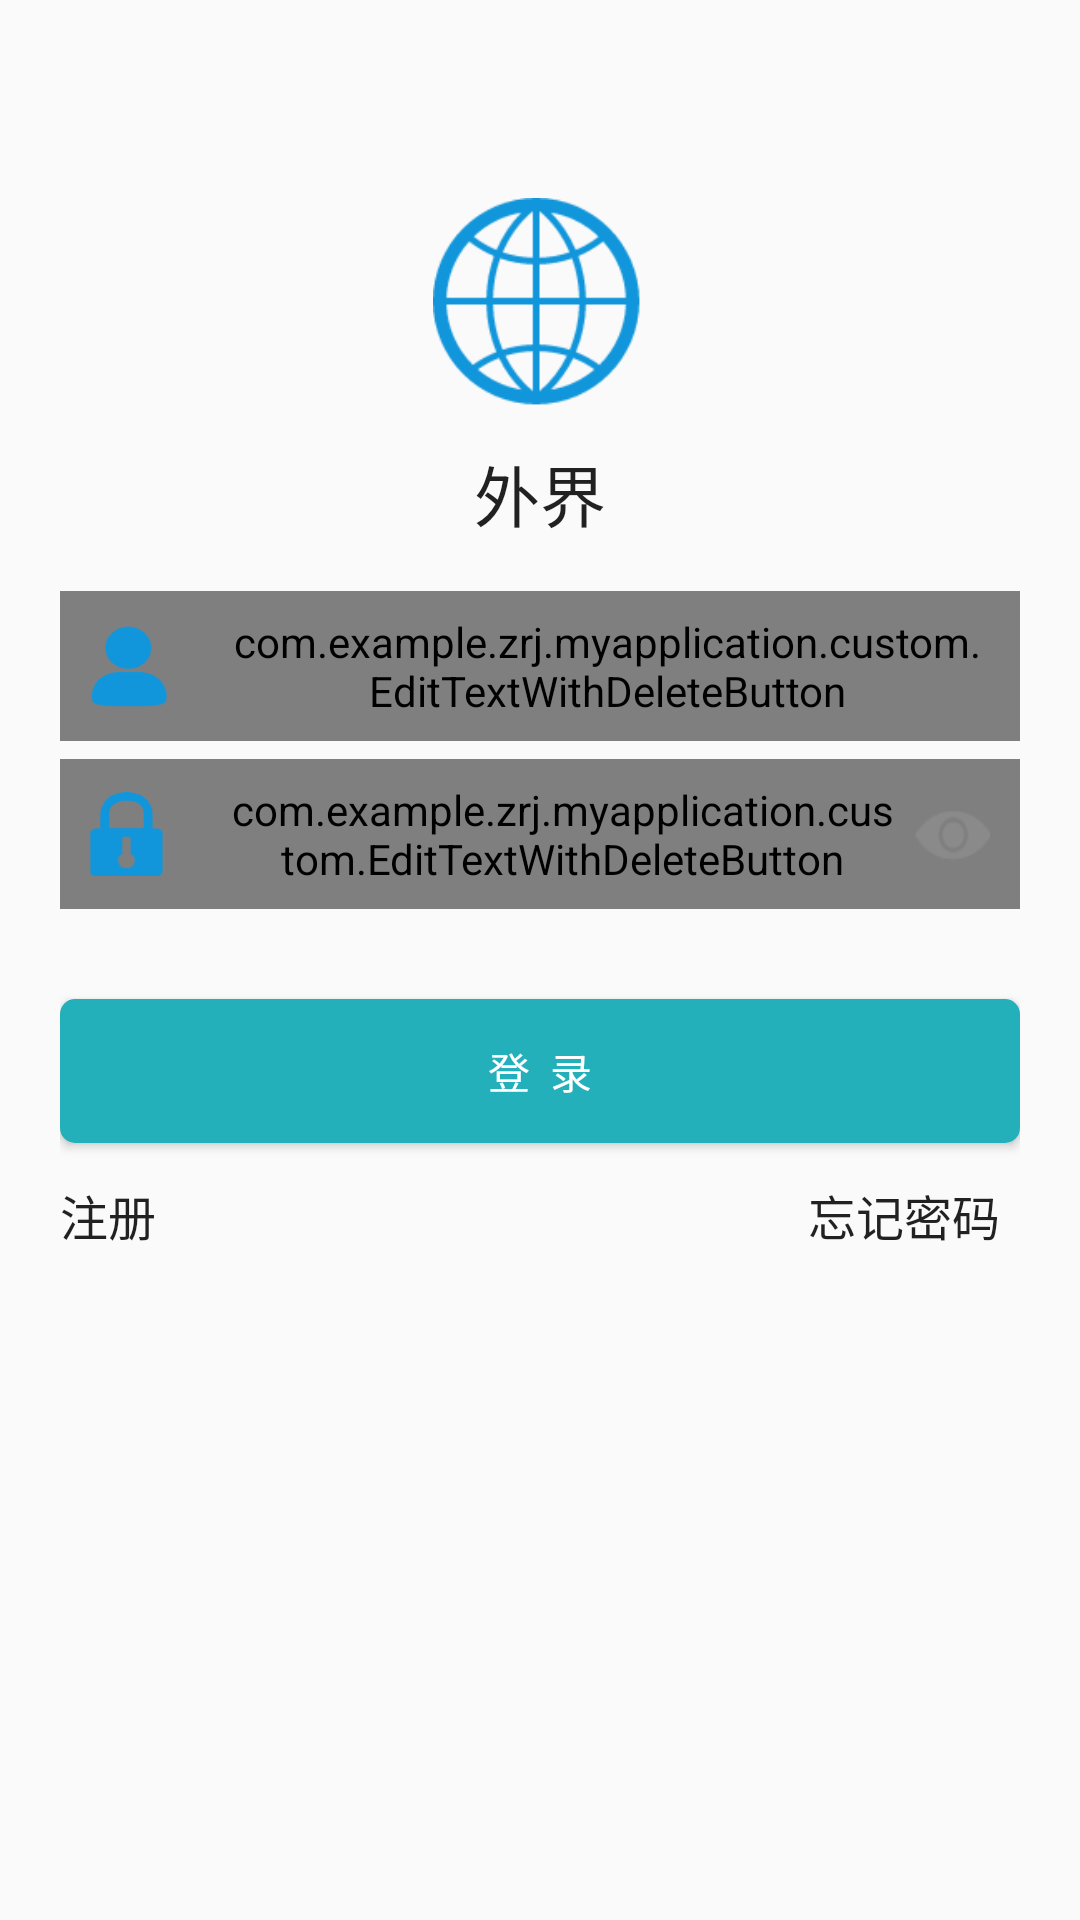

Icon bounding boxes for this 1080 × 1920 phone screenshot, format (x1, y1, x2, y2):
password: (90, 792, 163, 876)
username: (91, 626, 167, 706)
